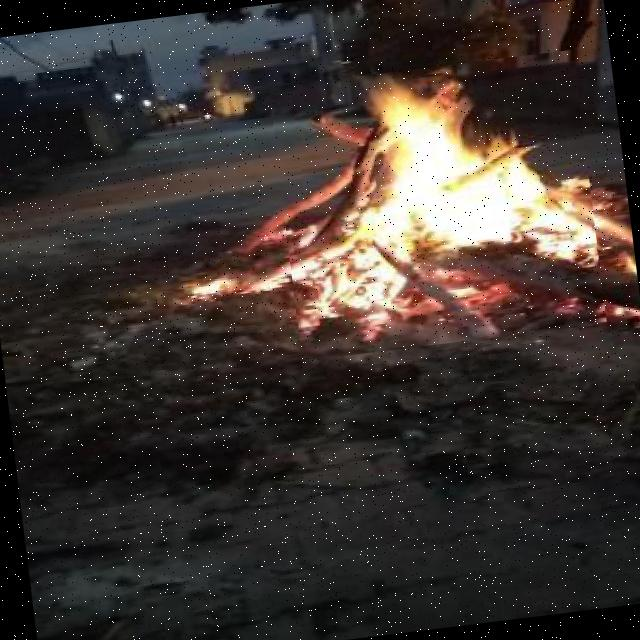fire: (268, 49, 606, 360)
